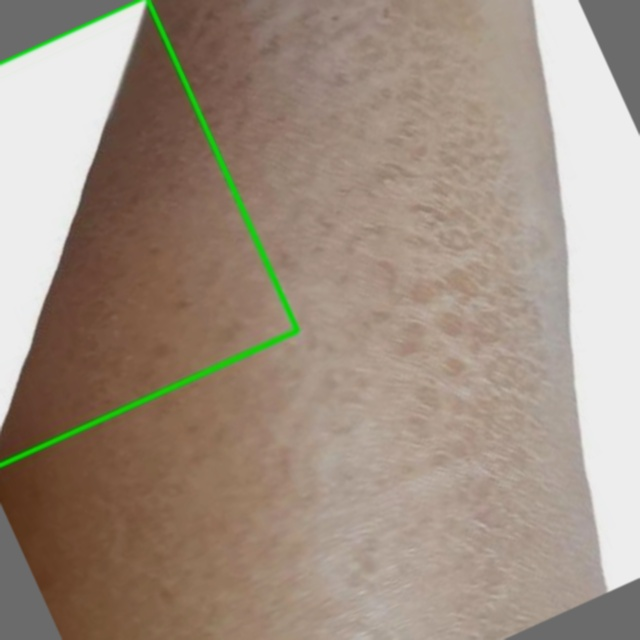Contact Dermatitis: (0, 0, 296, 465)
